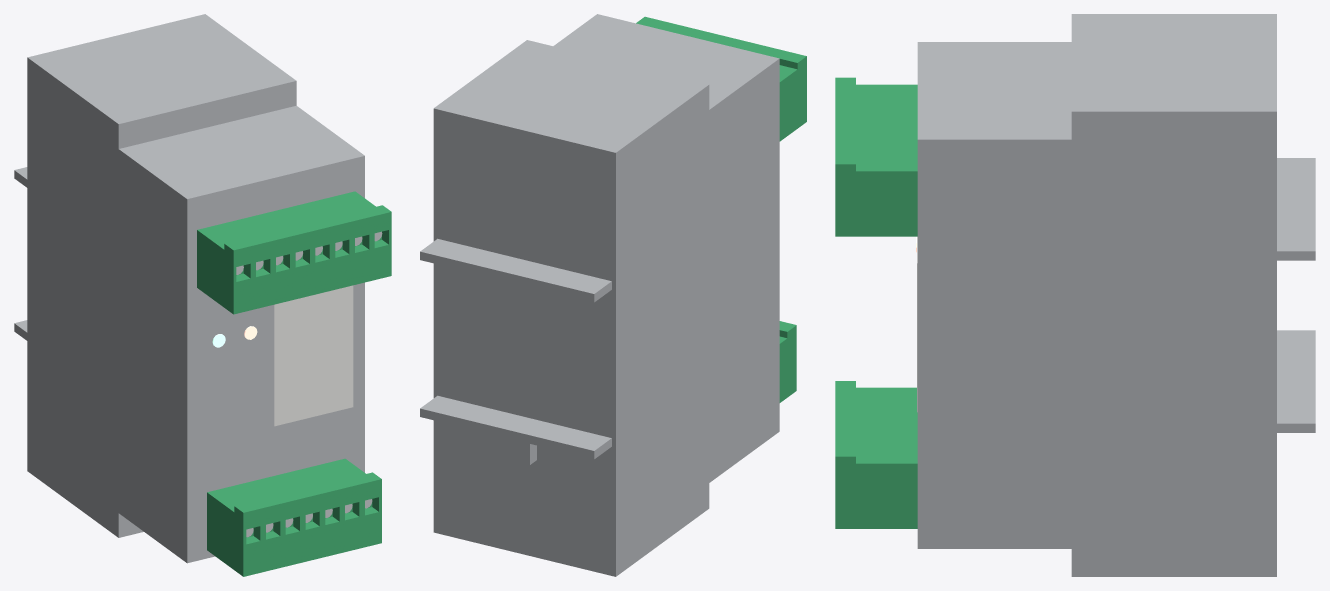
File: plc-aio.glb
3 views of the same model, side by side, from view 1: azimuth 30°, elevation 25°; view 2: azimuth 150°, elevation 25°; view 3: azimuth 270°, elevation 25° (orthographic). The views are drawn at different scales.
Parts seen in each view (by area): view 1: body; view 2: body; view 3: body.
Part boxes in pixels (x1=…): body: x1=14, y1=14, x2=391, y2=576; body: x1=420, y1=14, x2=806, y2=576; body: x1=835, y1=14, x2=1315, y2=576.
Size of what is drawn, in the model's own units: 0.045 by 0.1 by 0.0935.
